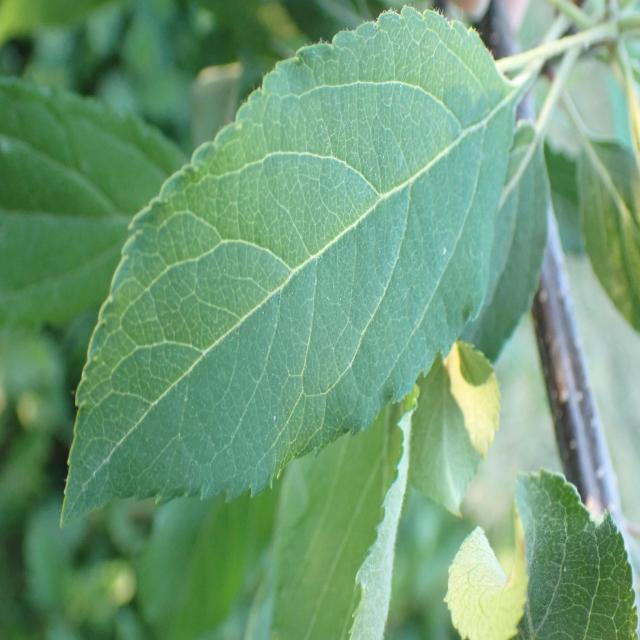healthy: (61, 4, 518, 530), (268, 374, 420, 640), (442, 468, 638, 640), (456, 120, 552, 364), (408, 339, 500, 518)
